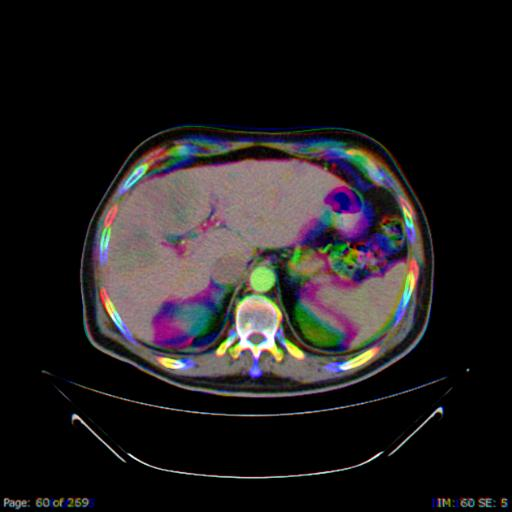Tumor: (154, 170, 205, 232), (109, 225, 157, 271)
